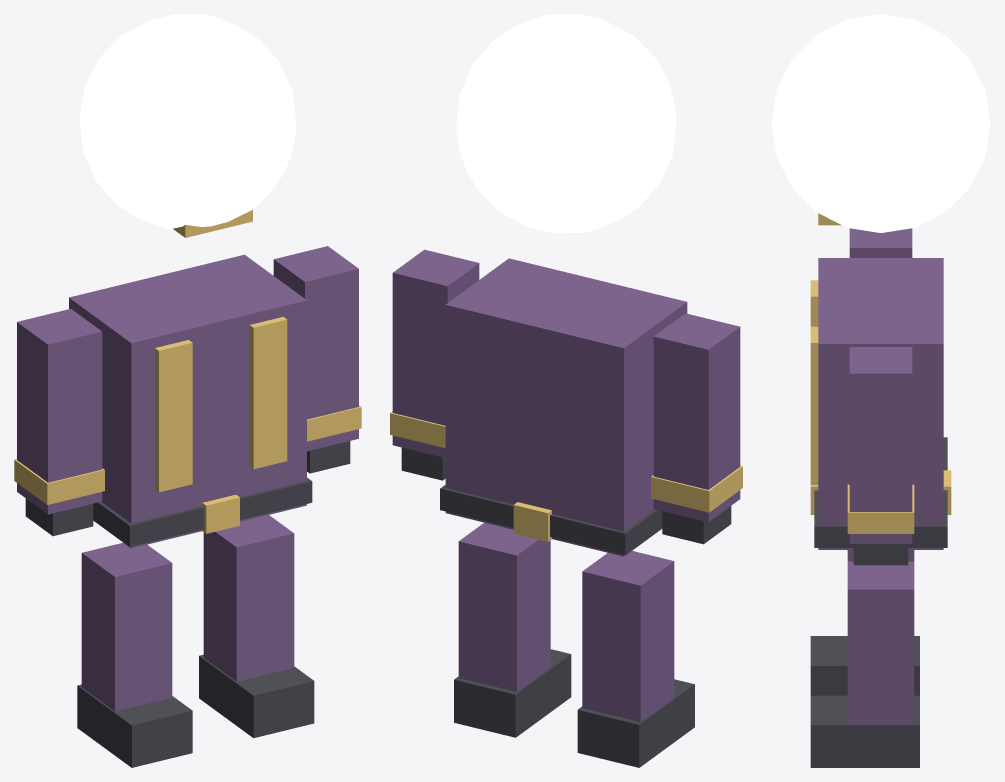
File: disco-ball-head.glb
3 views of the same model, side by side, from view 1: azimuth 30°, elevation 25°; view 2: azimuth 150°, elevation 25°; view 3: azimuth 270°, elevation 25° (orthographic).
Visible parts, largest first — view 1: VelvetJacket, DiscoBallHead, Sleeve_L, Trousers_L, Trousers_R, Sleeve_R, DressShoe_L, DressShoe_R, Lapel_R, Lapel_L, SuitBelt, Cuff_L (+5 smaller); view 2: VelvetJacket, DiscoBallHead, Sleeve_L, Trousers_L, Trousers_R, Sleeve_R, DressShoe_R, DressShoe_L, SuitBelt, Cuff_L, Hand_L, Cuff_R (+2 smaller); view 3: DiscoBallHead, VelvetJacket, Sleeve_R, Trousers_R, DressShoe_R, DressShoe_L, SuitBelt, Sleeve_L, Cuff_R, Lapel_R, Hand_R, SuitBuckle (+1 smaller).
Boxes of the visible parts, x1=… form: VelvetJacket: x1=69, y1=254, x2=306, y2=548; DiscoBallHead: x1=79, y1=14, x2=296, y2=229; Sleeve_L: x1=17, y1=309, x2=102, y2=514; Trousers_L: x1=81, y1=542, x2=172, y2=711; Trousers_R: x1=203, y1=515, x2=294, y2=681; Sleeve_R: x1=273, y1=246, x2=358, y2=451; DressShoe_L: x1=77, y1=684, x2=192, y2=767; DressShoe_R: x1=199, y1=654, x2=314, y2=738; Lapel_R: x1=249, y1=316, x2=287, y2=469; Lapel_L: x1=155, y1=340, x2=192, y2=492; SuitBelt: x1=93, y1=477, x2=312, y2=546; Cuff_L: x1=14, y1=459, x2=104, y2=504; VelvetJacket: x1=445, y1=258, x2=687, y2=556; DiscoBallHead: x1=456, y1=14, x2=676, y2=233; Sleeve_L: x1=653, y1=313, x2=740, y2=522; Trousers_L: x1=582, y1=551, x2=674, y2=722; Trousers_R: x1=458, y1=522, x2=550, y2=691; Sleeve_R: x1=392, y1=249, x2=479, y2=457; DressShoe_R: x1=454, y1=649, x2=571, y2=737; DressShoe_L: x1=577, y1=679, x2=694, y2=767; SuitBelt: x1=440, y1=485, x2=662, y2=555; Cuff_L: x1=651, y1=466, x2=742, y2=512; Hand_L: x1=662, y1=506, x2=731, y2=544; Cuff_R: x1=390, y1=411, x2=445, y2=448; DiscoBallHead: x1=771, y1=14, x2=990, y2=232; VelvetJacket: x1=818, y1=258, x2=943, y2=549; Sleeve_R: x1=849, y1=347, x2=912, y2=543; Trousers_R: x1=847, y1=561, x2=914, y2=724; DressShoe_R: x1=810, y1=695, x2=919, y2=767; DressShoe_L: x1=810, y1=636, x2=919, y2=695; SuitBelt: x1=814, y1=437, x2=947, y2=547; Sleeve_L: x1=849, y1=228, x2=912, y2=257; Cuff_R: x1=847, y1=484, x2=914, y2=533; Lapel_R: x1=810, y1=326, x2=818, y2=484; Hand_R: x1=853, y1=544, x2=908, y2=565; SuitBuckle: x1=810, y1=470, x2=951, y2=514.
Size of the model in its own units: 0.93 by 1.97 by 0.56.
